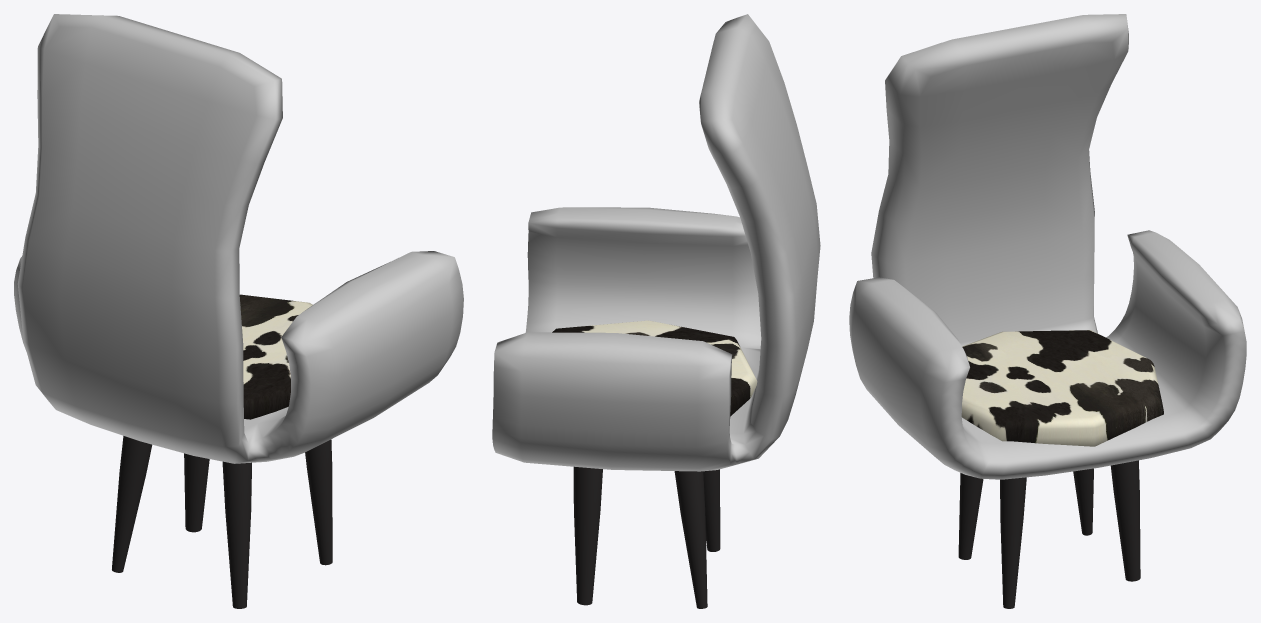
Rendered from armchair1.fbx.
The picture shows the model from 3 angles, left to right: view 1: azimuth 30°, elevation 25°; view 2: azimuth 150°, elevation 25°; view 3: azimuth 270°, elevation 25°; orthographic projection. The views are drawn at different scales.
Visible parts, largest first — view 1: pCube1, pCube2, pasted__pCylinder1 (×2), pCylinder1, pasted__pasted__pCylinder1; view 2: pCube1, pCube2, pasted__pasted__pCylinder1, pasted__pCylinder1, pCylinder1; view 3: pCube1, pCube2, pasted__pCylinder1 (×2), pasted__pasted__pCylinder1, pCylinder1.
Boxes of the visible parts, <box> form: pCube1: <box>14,14,463,463</box>; pCube2: <box>239,294,312,419</box>; pasted__pCylinder1 (×2): <box>112,436,332,572</box>; pCylinder1: <box>222,461,251,608</box>; pasted__pasted__pCylinder1: <box>184,453,209,532</box>; pCube1: <box>492,14,820,471</box>; pCube2: <box>552,320,757,416</box>; pasted__pasted__pCylinder1: <box>573,466,602,605</box>; pasted__pCylinder1: <box>674,471,707,608</box>; pCylinder1: <box>703,469,720,551</box>; pCube1: <box>849,14,1246,479</box>; pCube2: <box>961,330,1163,446</box>; pasted__pCylinder1 (×2): <box>1000,468,1093,608</box>; pasted__pasted__pCylinder1: <box>1110,460,1140,581</box>; pCylinder1: <box>958,473,983,559</box>.
Bounding box in the file's own units: 2.75 × 4.06 × 2.87.
